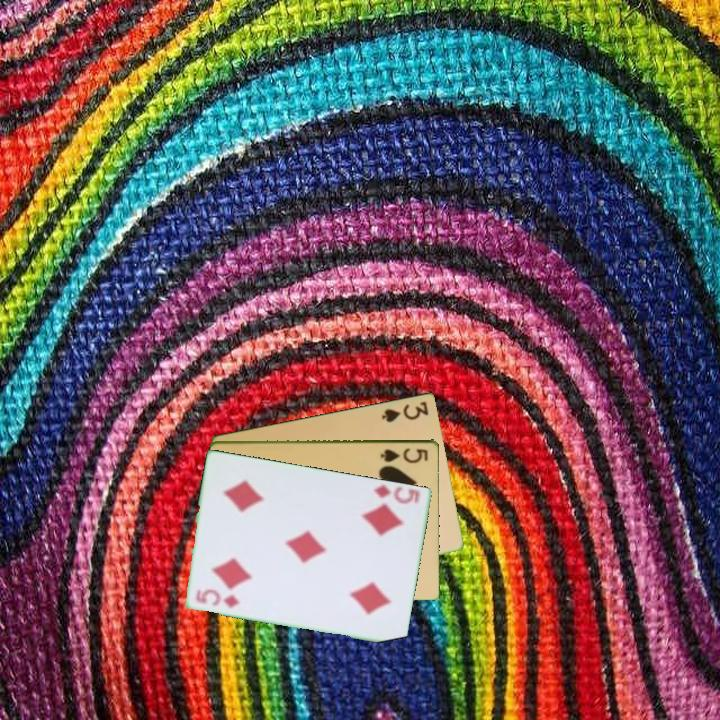3s: (378, 397, 432, 425)
5d: (371, 481, 422, 507), (193, 585, 243, 610)
5s: (377, 444, 431, 465)
